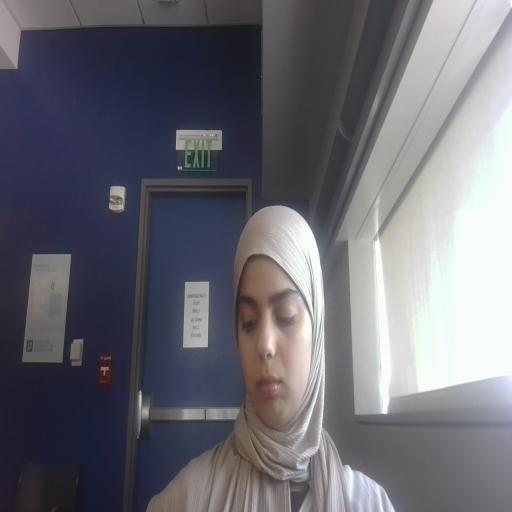lookingdownatphone: (236, 257, 312, 429)
